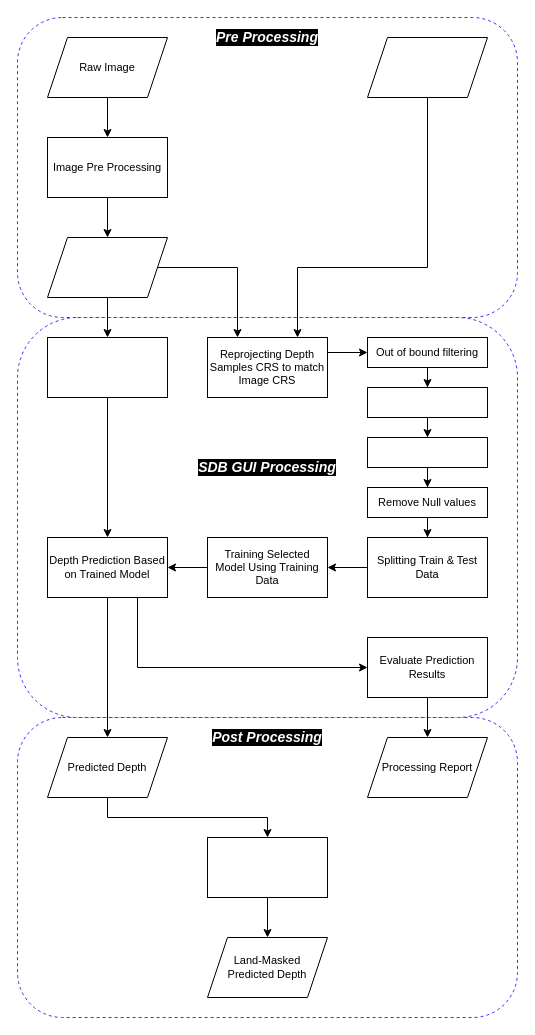
The diagram is 535 pixels wide and 1035 high, and some of its shapes have lost their labels. Here are the shapes that lost their labels. From the top down, the centre of each, then its label:
the point at 427,67: Depth Samples
the point at 107,267: Georeferenced & Corrected Raster
the point at 107,367: Replace some Null pixels to -999.0 value to avoid error
the point at 427,402: Points Sampling on Raster Value
the point at 427,452: Depth Limit Filtering
the point at 267,867: Land Masking
